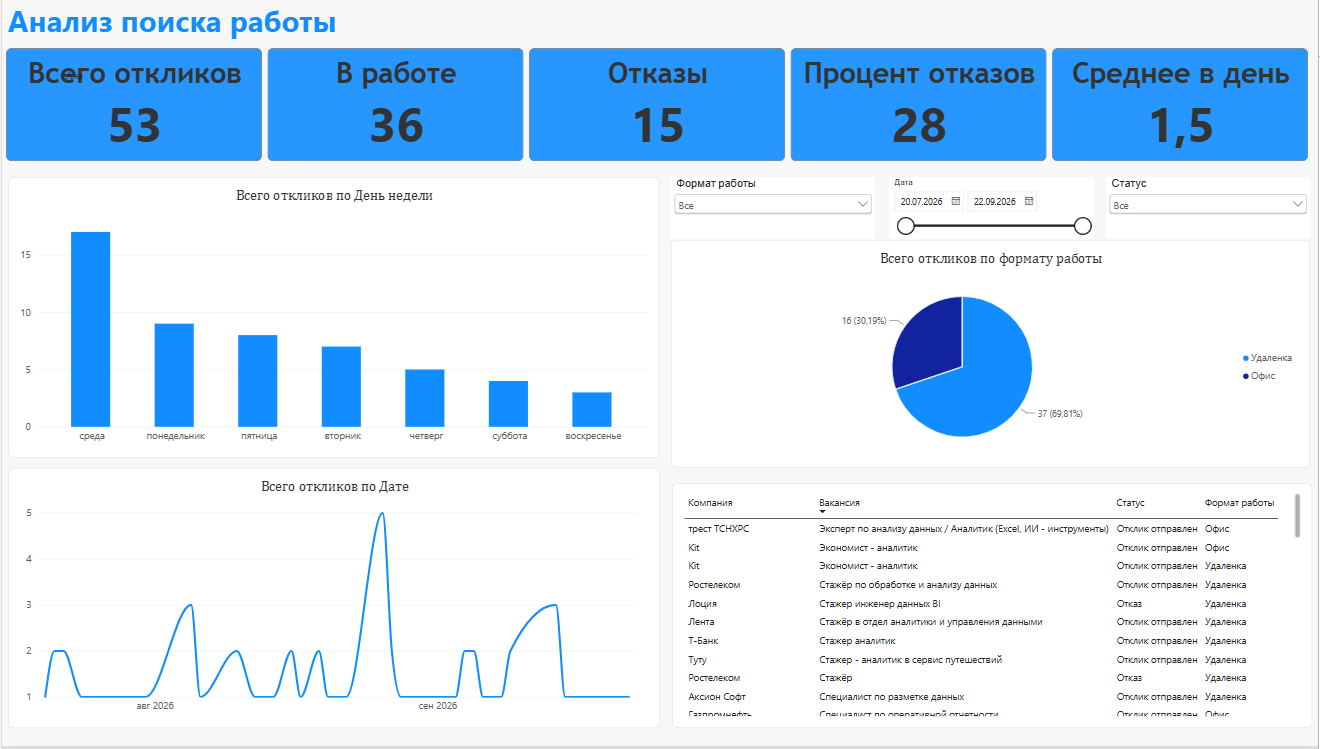

This screenshot's page, from the dashboard's own definition file:
{"tool":"powerbi","page":{"name":"Дашборд поиска работы","canvas":[1920,1080],"ordinal":0},"visuals":[{"type":"cardVisual","fields":{"Data":["DAX.Всего откликов","DAX.В работе","DAX.Отказы","DAX.Процент отказов","DAX.Среднее в день"]},"box":[13,69.6,1889.4,164.9],"z":0},{"type":"pieChart","title":"Всего откликов по формату работы","fields":{"Category":["Таблица откликов.Формат работы"],"Y":["DAX.Всего откликов"]},"box":[976.8,347.8,926.1,330.4],"z":1000},{"type":"lineChart","title":"Всего откликов по Дате","fields":{"Category":["Таблица откликов.Дата"],"Y":["DAX.Всего откликов"]},"box":[15.9,678.3,944.9,376.8],"z":2000},{"type":"tableEx","fields":{"Values":["Таблица откликов.Компания","Таблица откликов.Вакансия ","Таблица откликов.Статус","Таблица откликов.Формат работы"]},"box":[978.3,700,927.5,355.1],"z":3000},{"type":"columnChart","fields":{"Category":["Таблица откликов.День недели","Таблица откликов.Номер дня недели"],"Y":["DAX.Всего откликов"]},"box":[15.9,256.5,944,407.1],"z":4000},{"type":"slicer","fields":{"Values":["Таблица откликов.Дата"]},"box":[1292.8,256.5,296.2,89],"z":5000},{"type":"slicer","fields":{"Values":["Таблица откликов.Статус"]},"box":[1607.2,256.5,296.2,89],"z":6000},{"type":"slicer","fields":{"Values":["Таблица откликов.Формат работы"]},"box":[976.8,256.5,296.2,89],"z":7000},{"type":"textbox","box":[100,100,300,300],"z":8000},{"type":"textbox","box":[15.9,0,898.6,56.5],"z":8001}]}

Visuals, with their boxes in screenshot pixels (x1, y1, x2, y2), scaled from the page's 1920x1080 canvas onto the 1320x749 screenshot:
cardVisual - DAX.Всего откликов x DAX.В работе: select_region(9, 48, 1308, 163)
"Всего откликов по формату работы" pieChart: select_region(672, 241, 1308, 470)
"Всего откликов по Дате" lineChart: select_region(11, 470, 661, 732)
tableEx - Таблица откликов.Компания x Таблица откликов.Вакансия : select_region(673, 485, 1310, 732)
columnChart - Таблица откликов.День недели x Таблица откликов.Номер дня недели: select_region(11, 178, 660, 460)
slicer - Таблица откликов.Дата: select_region(889, 178, 1092, 240)
slicer - Таблица откликов.Статус: select_region(1105, 178, 1309, 240)
slicer - Таблица откликов.Формат работы: select_region(672, 178, 875, 240)
textbox: select_region(69, 69, 275, 277)
textbox: select_region(11, 0, 629, 39)
